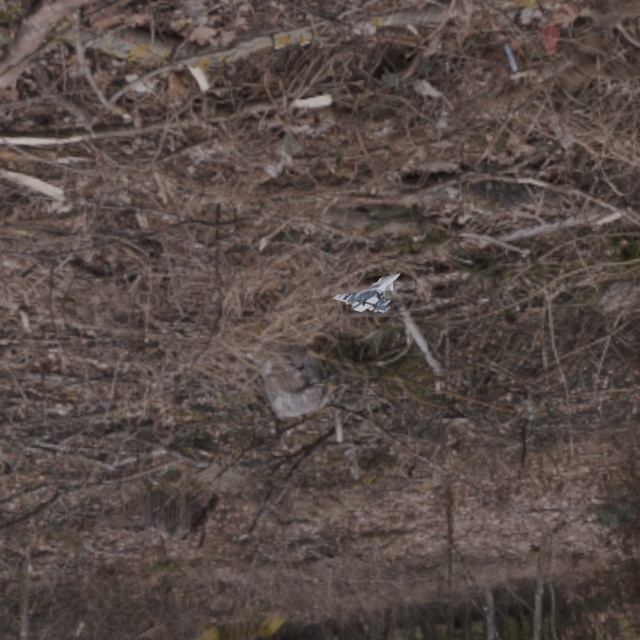eurofighter_typhoon_3d: (325, 246, 427, 328)
